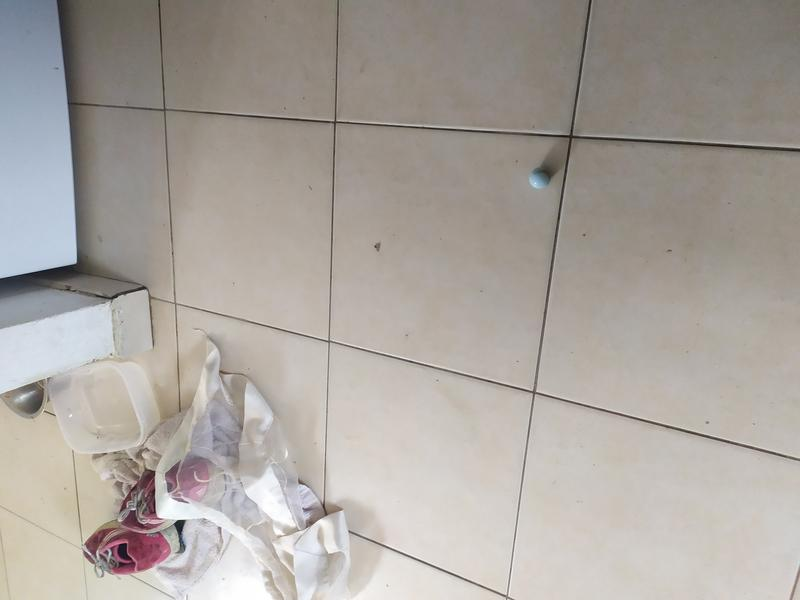Warning: (526, 165, 553, 192)
